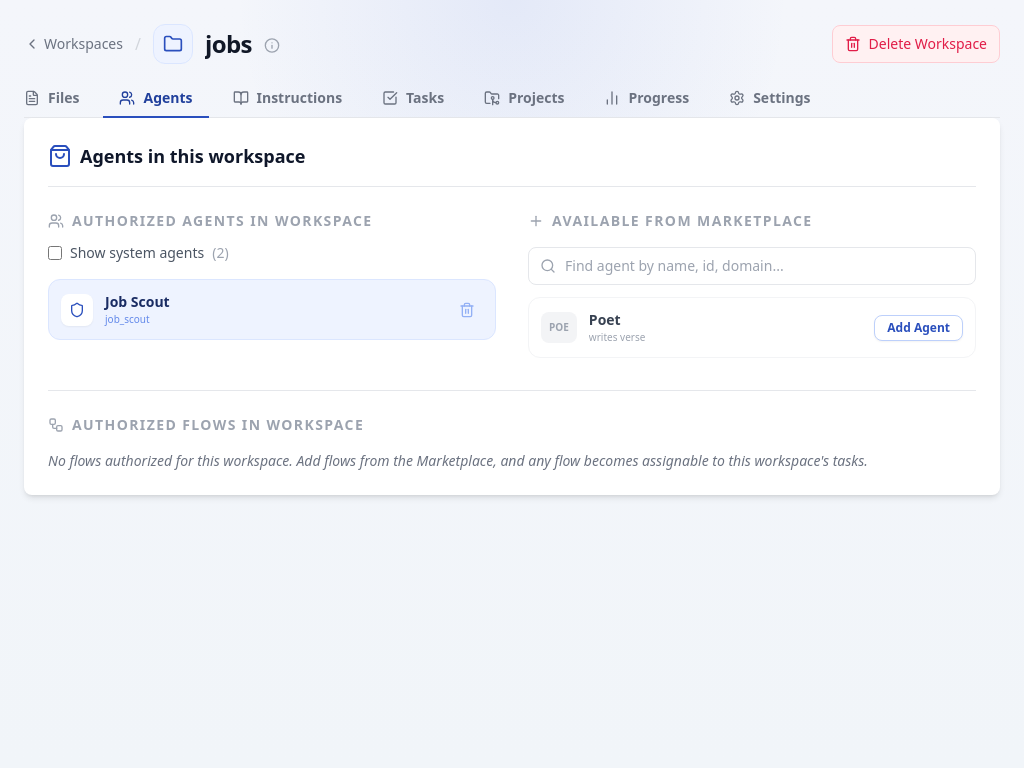
WorkspaceDetails agents tab › never offers system agents and hides them from the authorized list by default
Expected: the text "Job Scout" is shown, 105,292 -> 170,312
Expected: the text "Orchestrator" is not shown
Click the checkbox at (55, 253), box 48,246 -> 62,260
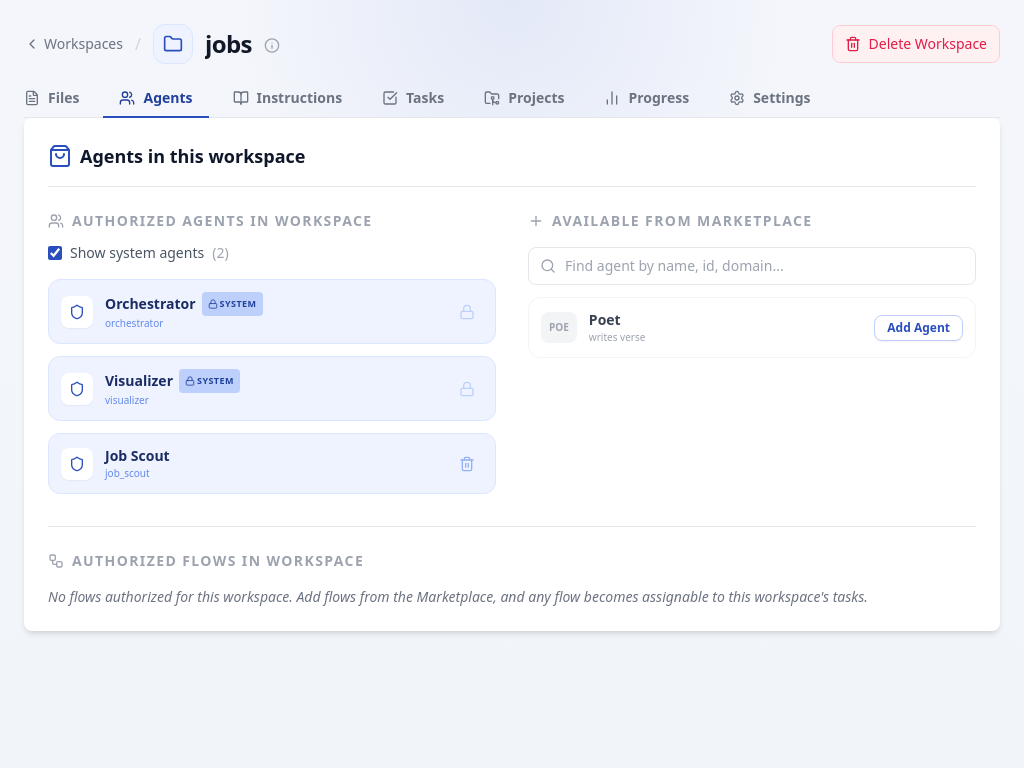
Expected: the text "Orchestrator" is shown, 105,294 -> 196,313
